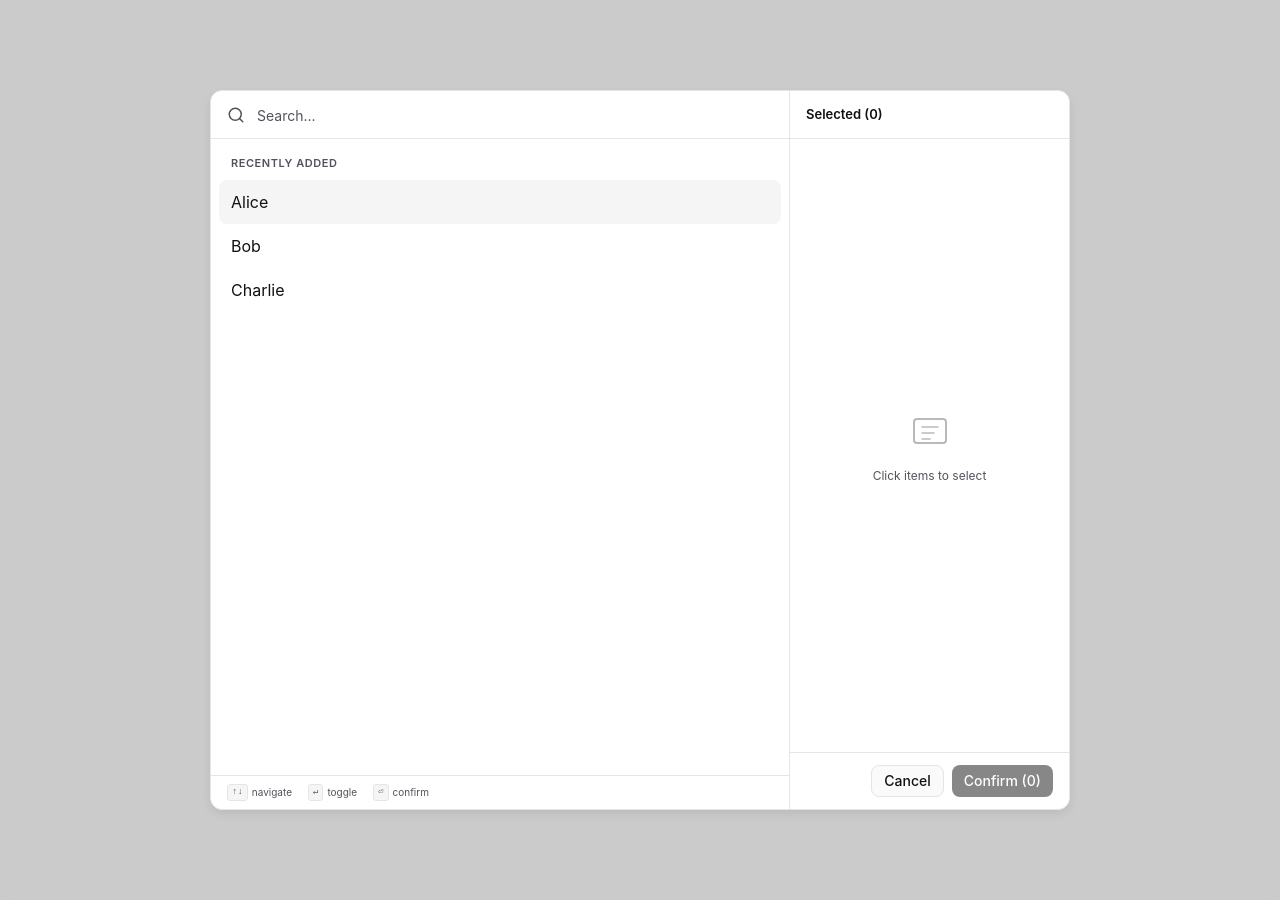
Scenario: SpotlightSearch — multi mode › selected items show in right panel with remove button
The image size is (1280, 900).
Click the button with test id "spotlight-item-1".
click(250, 202)  # box [219,180,781,224]
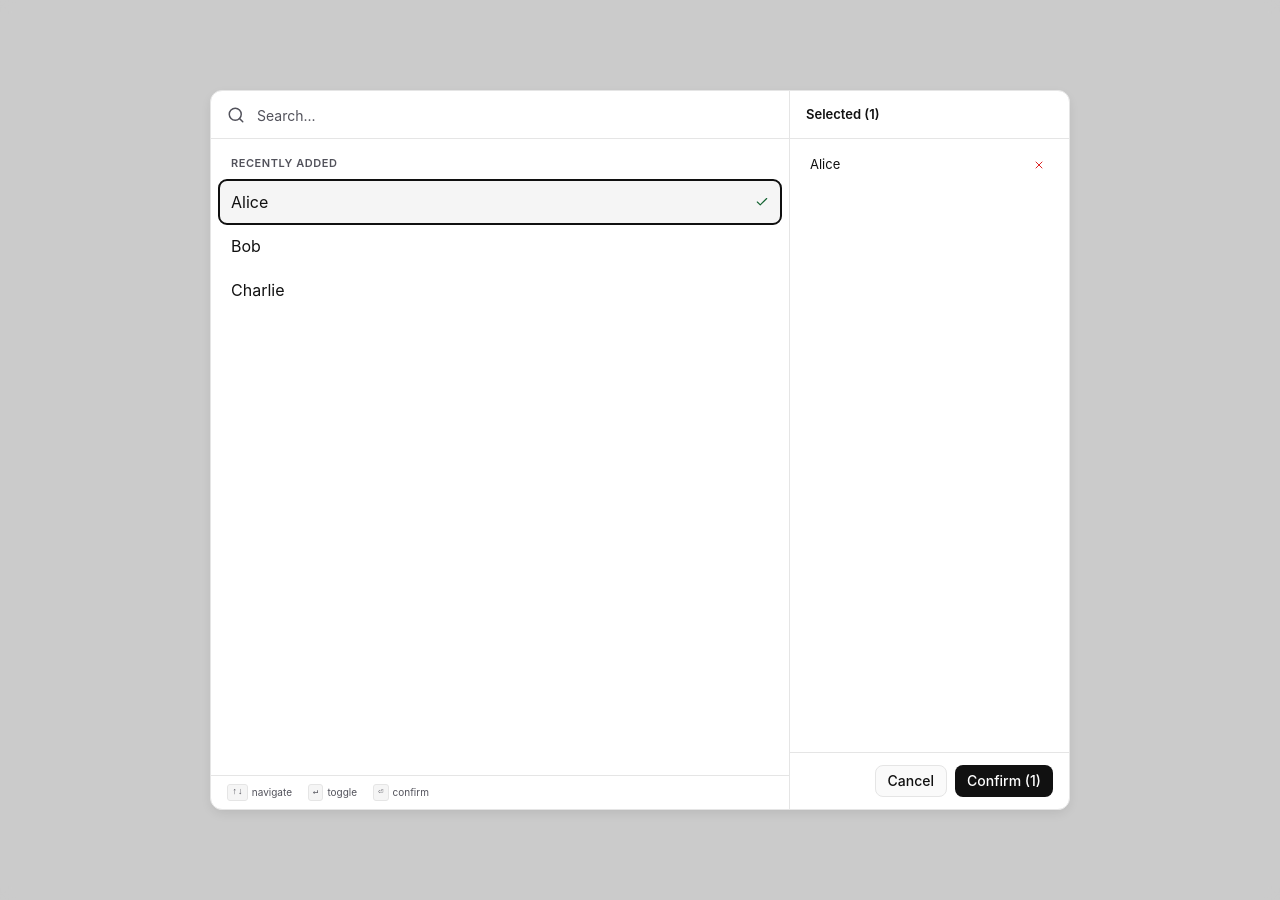
Click the button with test id "spotlight-item-2".
click(246, 246)  # box [219,224,781,268]
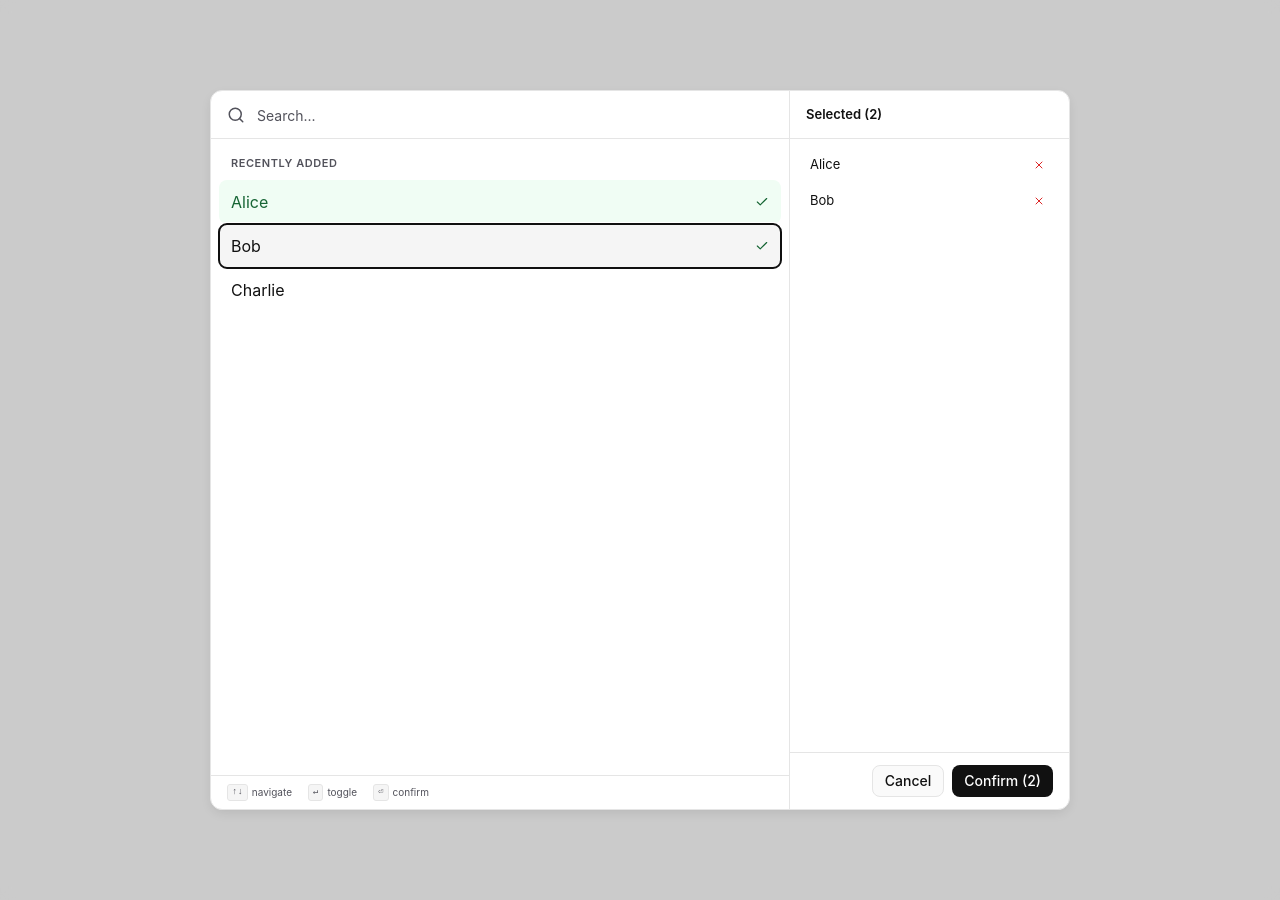
Result: the text "Alice" below "Selected (" is shown at [810,156,840,172]
Result: the text "Bob" below "Selected (" is shown at [810,192,834,208]
Result: the number of buttons named "Remove" is 2 at [1029,155,1049,175]; [1029,191,1049,211]
